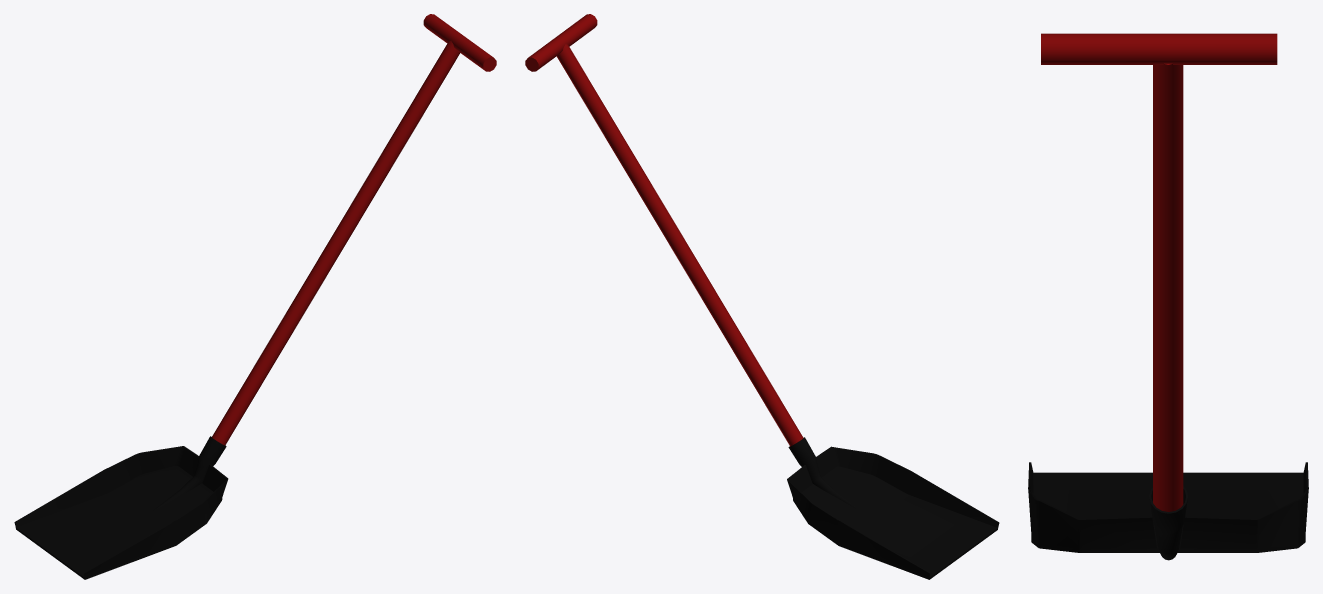
The model's file is Shovel.fbx.
3 renders of one model, left to right at view 1: azimuth 30°, elevation 25°; view 2: azimuth 150°, elevation 25°; view 3: azimuth 270°, elevation 25°, orthographic. The views are drawn at different scales.
Visible parts, largest first — view 1: Spoon, Handle, Connection; view 2: Spoon, Handle, Connection; view 3: Handle, Spoon, Connection.
Part boxes in pixels (<box>): Spoon: <box>14,446,228,579</box>; Handle: <box>211,14,496,445</box>; Connection: <box>153,436,226,510</box>; Spoon: <box>787,446,999,579</box>; Handle: <box>525,14,803,446</box>; Connection: <box>788,437,860,510</box>; Handle: <box>1041,33,1277,511</box>; Spoon: <box>1028,462,1308,552</box>; Connection: <box>1149,486,1187,560</box>.
Bounding box in the file's own units: 30.18 × 29.3 × 8.9.
